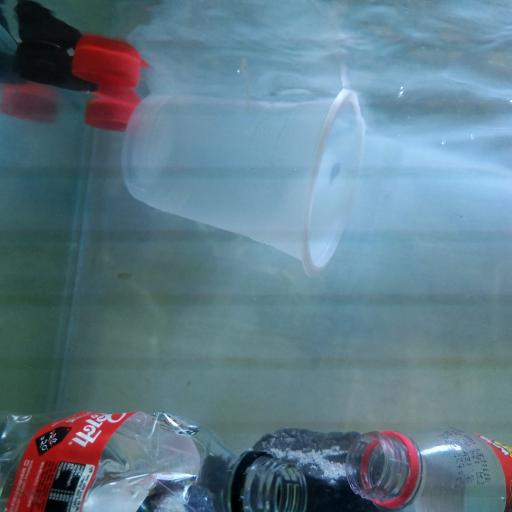bottle_cap: (72, 46, 140, 86), (16, 41, 68, 81), (86, 98, 131, 128)
plastic_bottle: (1, 412, 307, 512), (348, 427, 512, 512)
plastic_cup: (124, 90, 364, 276)
